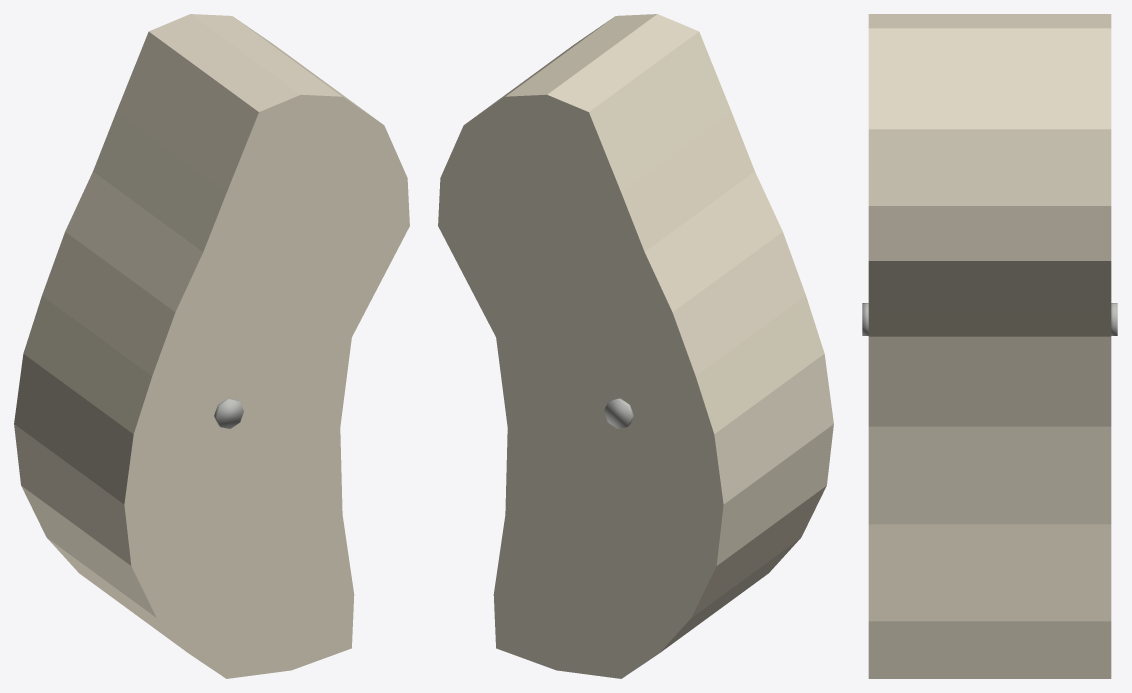
The model's file is colt_1878_grip_ivory.fbx.
3 views of the same model, side by side, from view 1: azimuth 30°, elevation 25°; view 2: azimuth 150°, elevation 25°; view 3: azimuth 270°, elevation 25° (orthographic). The views are drawn at different scales.
Visible parts, largest first — view 1: colt_1878_grip_ivory; view 2: colt_1878_grip_ivory; view 3: colt_1878_grip_ivory.
Boxes of the visible parts, bbox=[...] form: colt_1878_grip_ivory: bbox=[14, 14, 409, 678]; colt_1878_grip_ivory: bbox=[438, 14, 833, 678]; colt_1878_grip_ivory: bbox=[862, 14, 1117, 678].
Size of the model in its own units: 0.0478 by 0.0918 by 0.0336.
